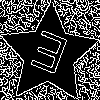E: (24, 29, 71, 85)
